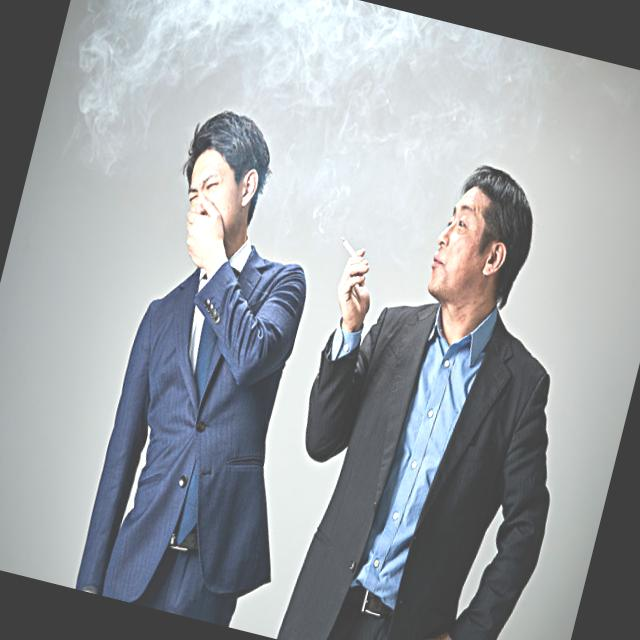cigarette: (338, 237, 361, 260)
